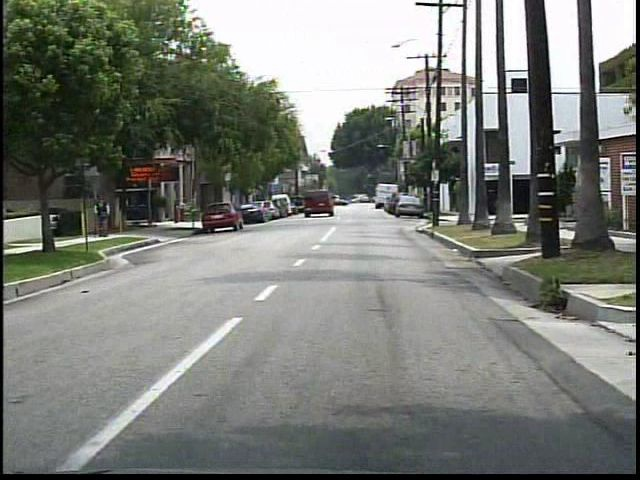person: (86, 192, 111, 240)
